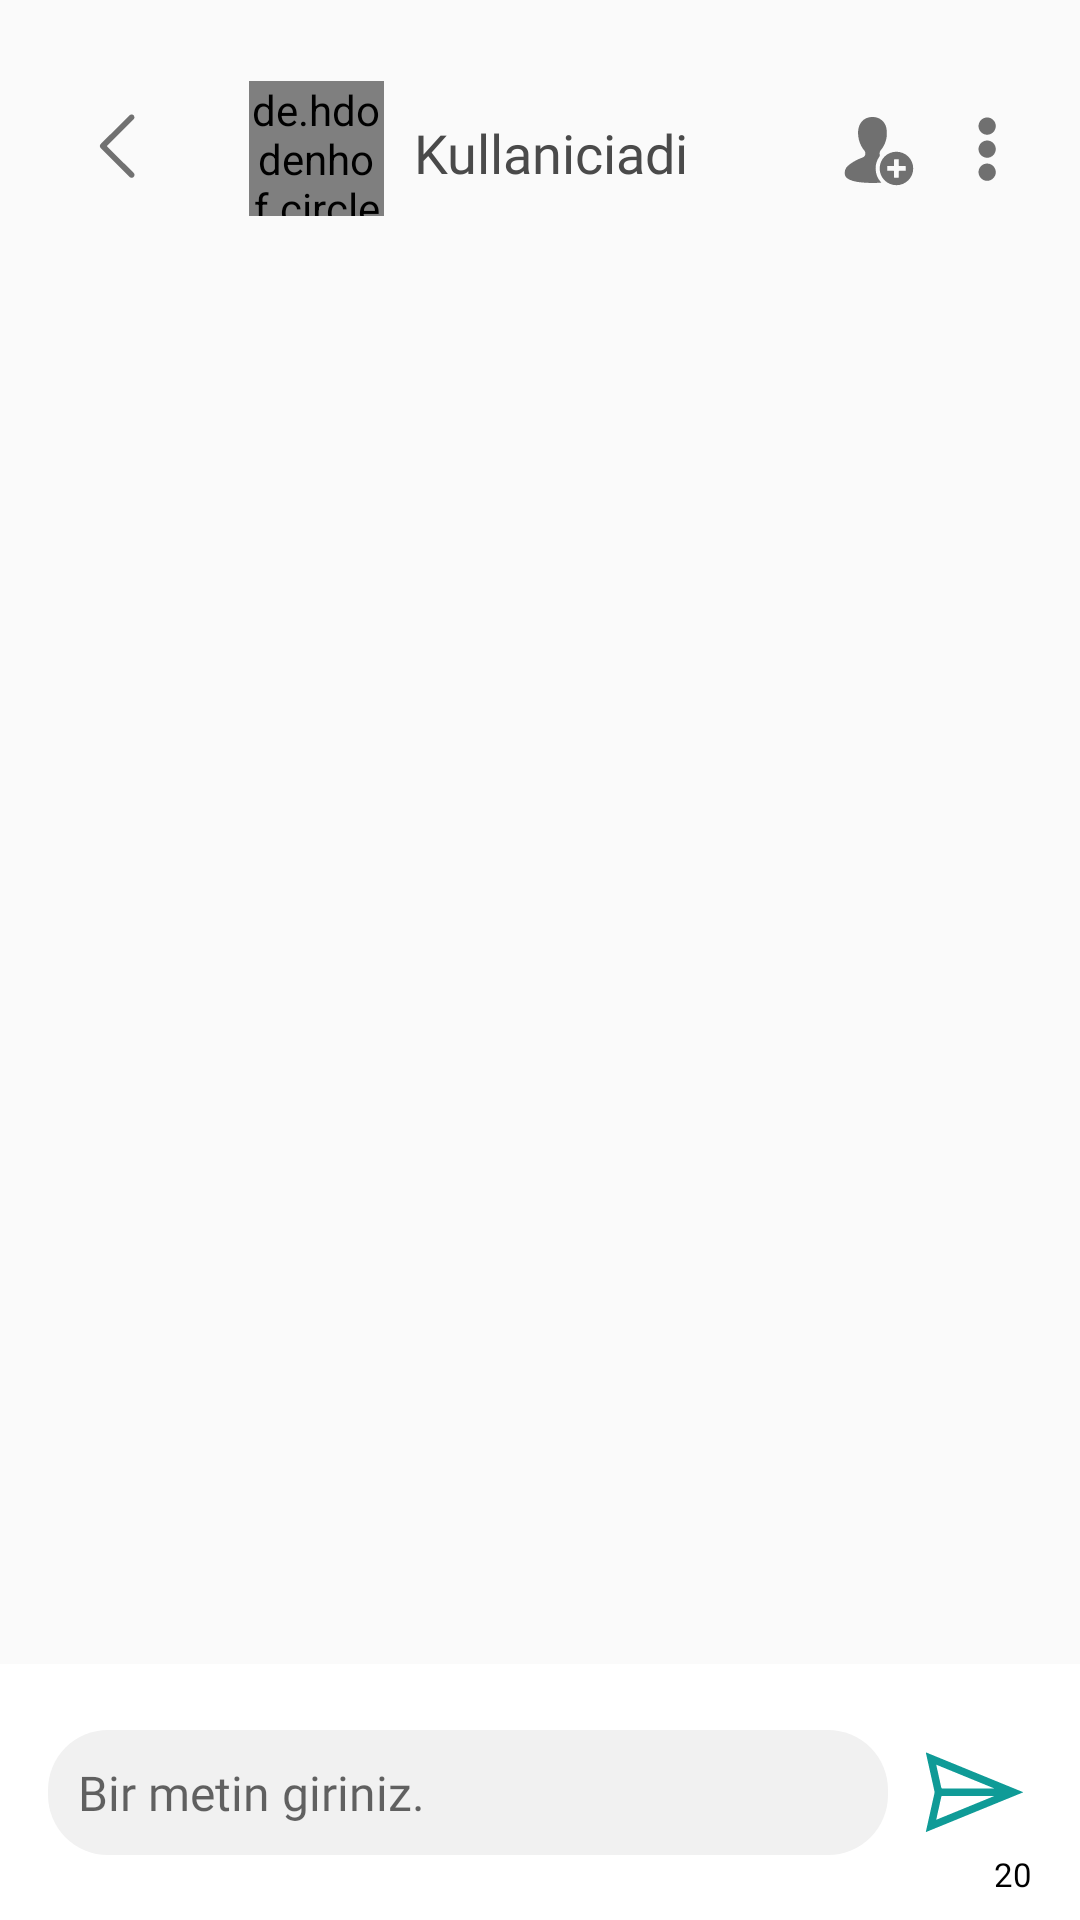

Icon bounding boxes for this 1080*1920 phone screenshot, format [x1, y1, x2, y2]:
addfriends: [844, 117, 914, 186]
backsvg: [100, 114, 135, 178]
sent: [926, 1752, 1023, 1832]
ucnoktasvg: [978, 117, 996, 181]
